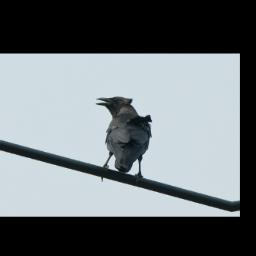Crow: (91, 93, 154, 186)
